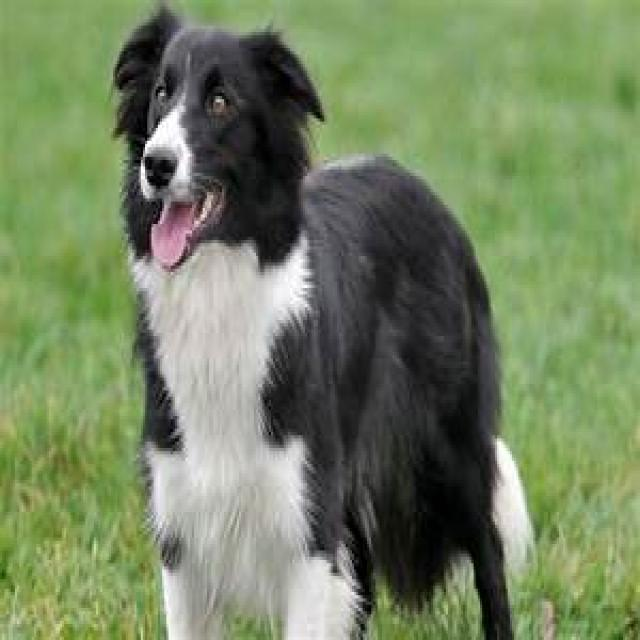dog: (114, 9, 531, 638)
